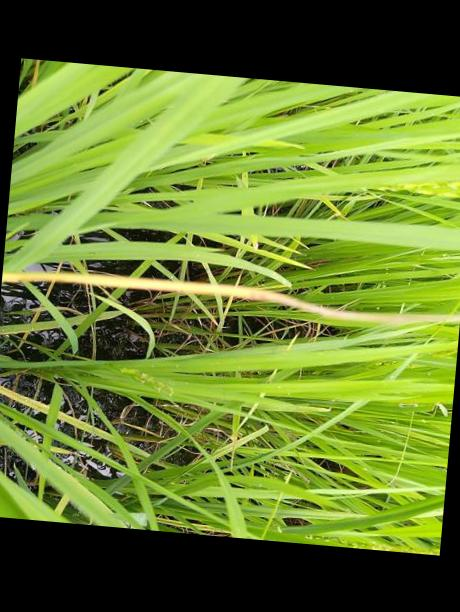Leaf Blight: (2, 266, 460, 323)
